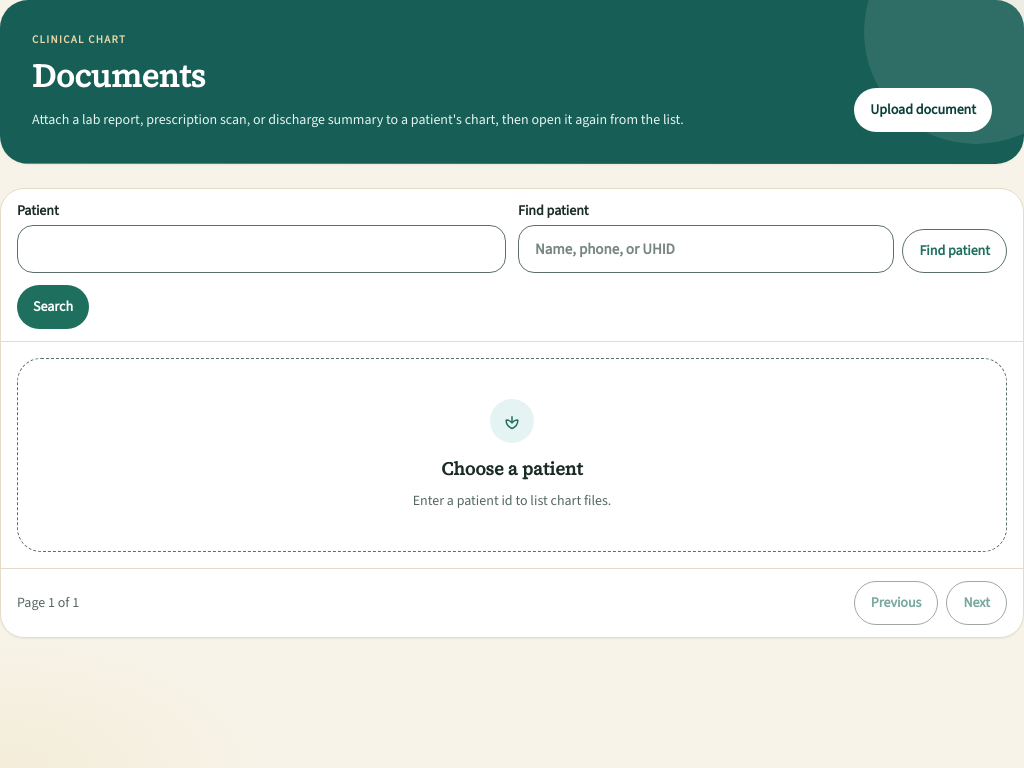
it: DocumentsPage › shows an empty state after a search with no files
Type "11111111-1111-1111-1111-111111111111" into the field labelled "Patient".
click(262, 249); type("11111111-1111-1111-1111-111111111111")  # box [17,225,506,273]
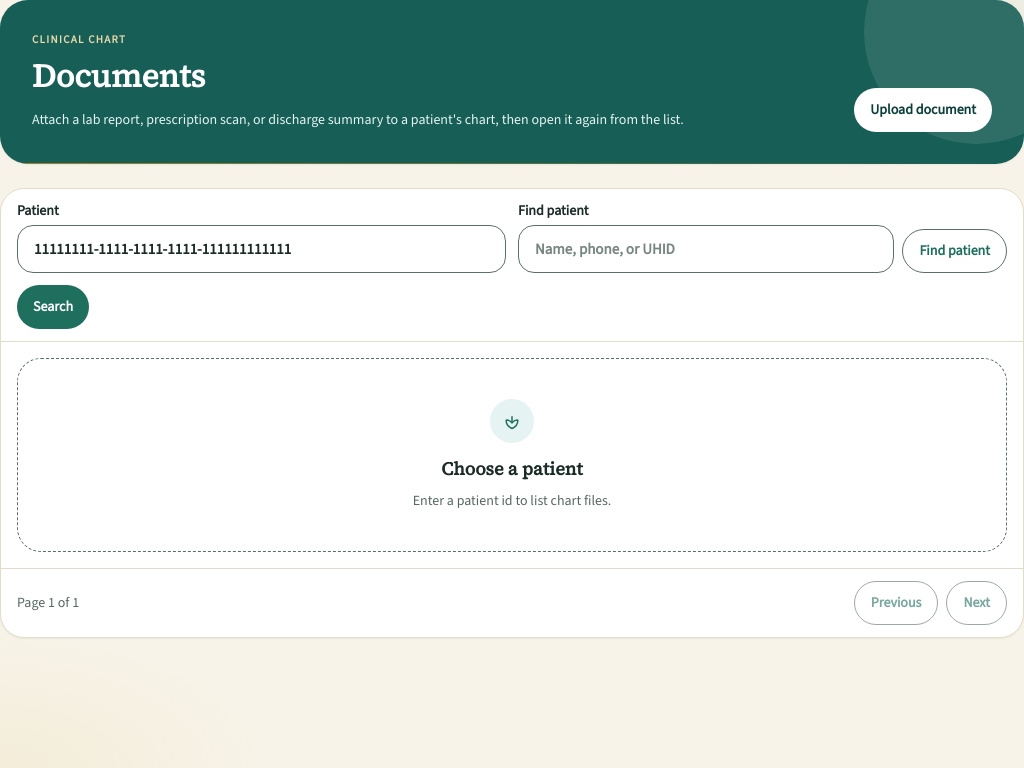
Click the button "Search".
click(53, 307)  # box [17,285,89,329]
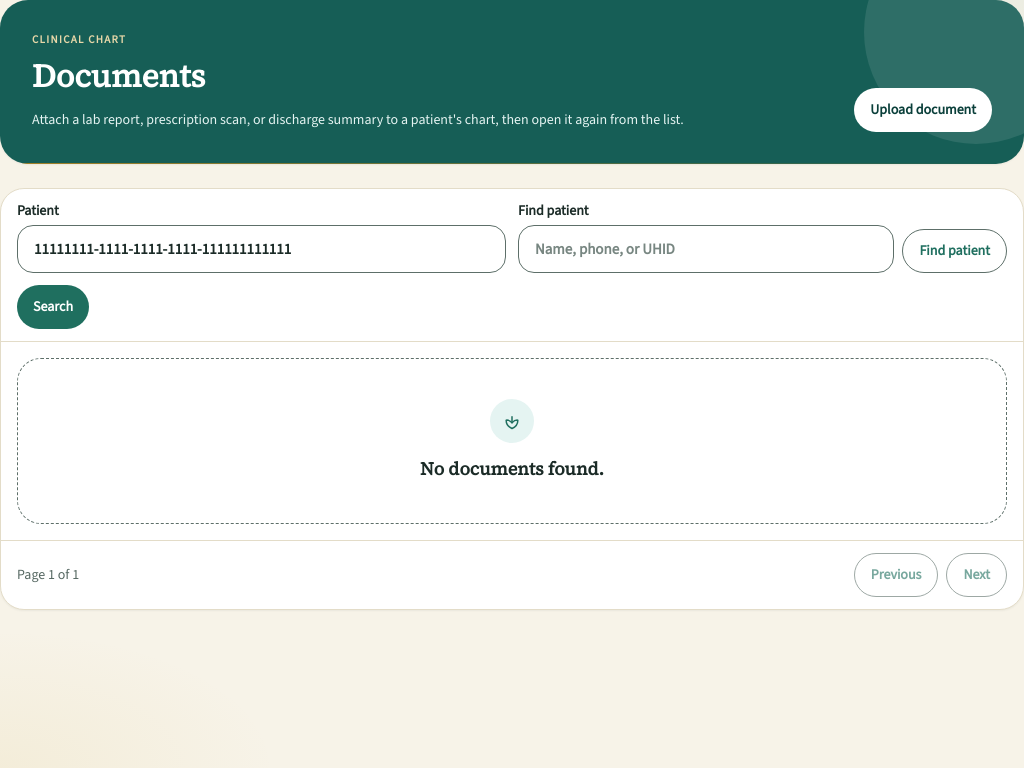
Result: the text "No documents found." is shown at [420,456,604,481]
